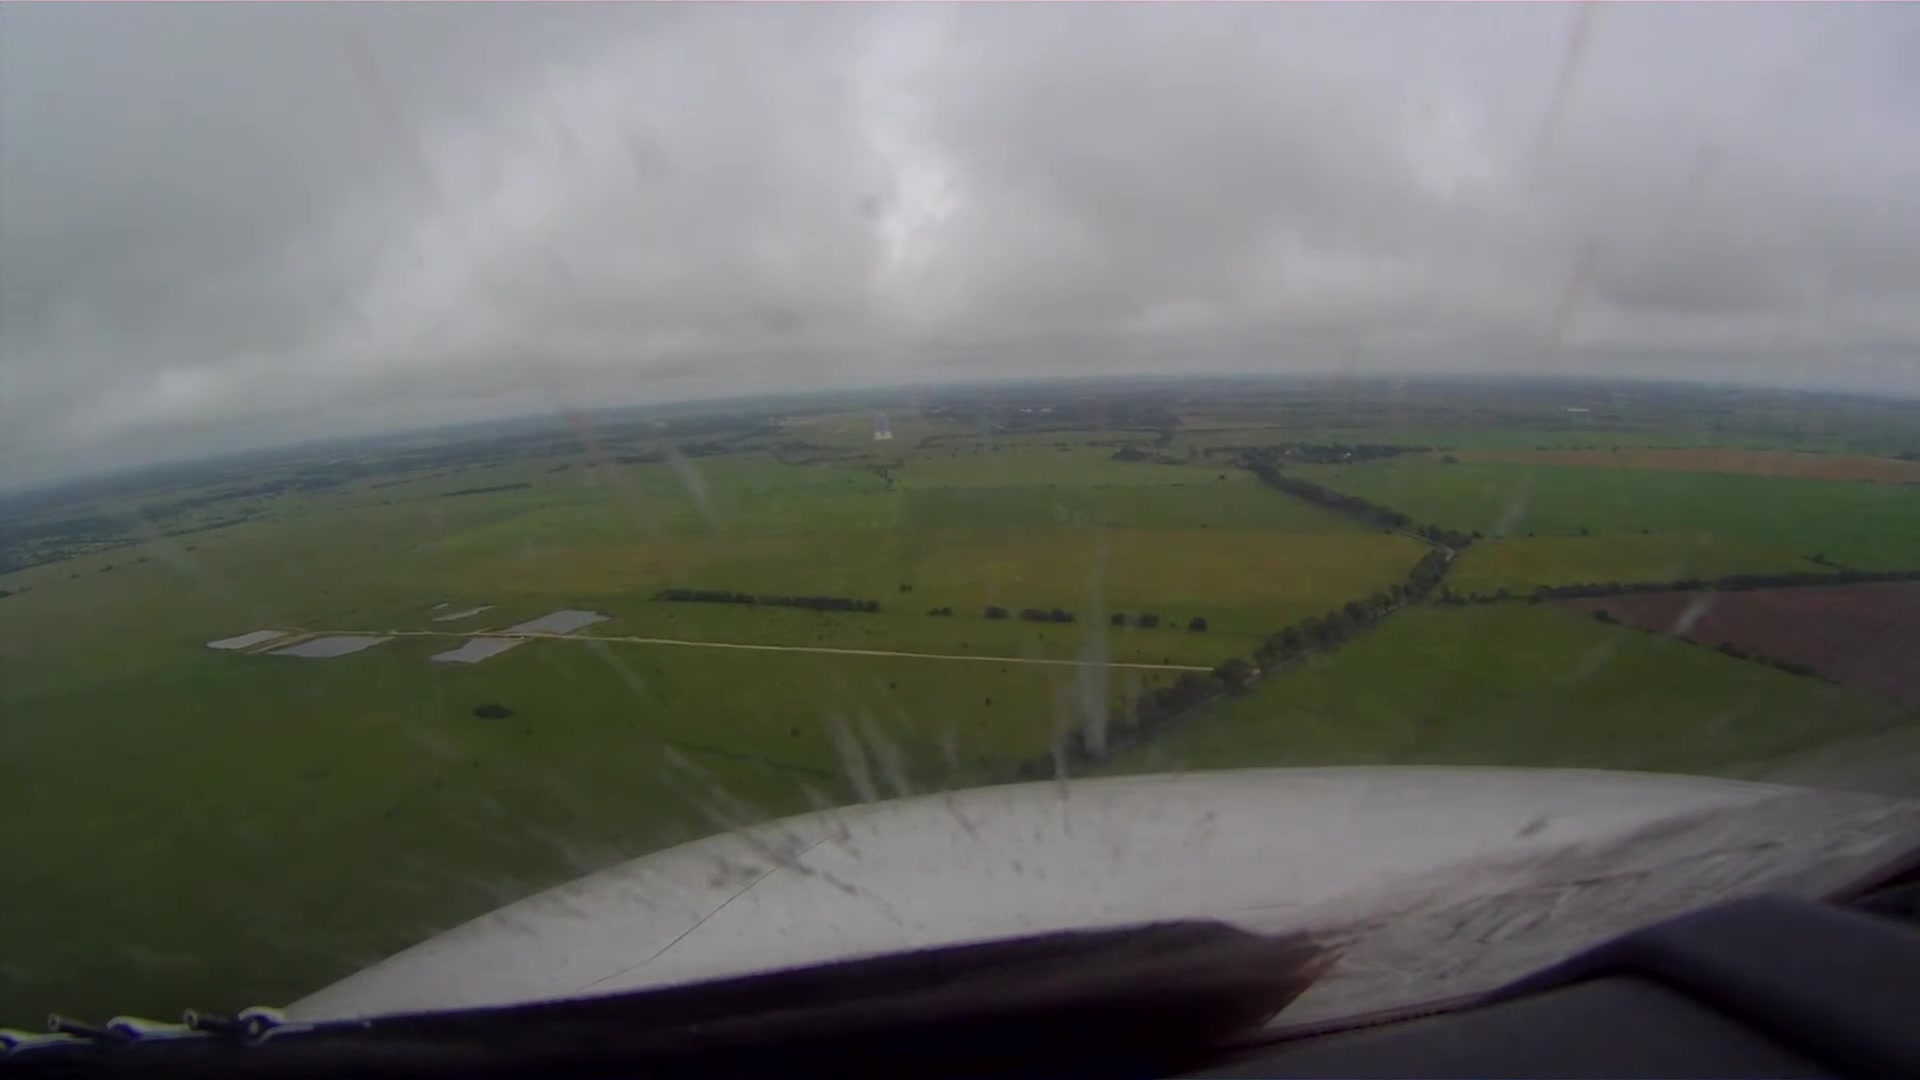runway: (872, 410, 891, 442)
